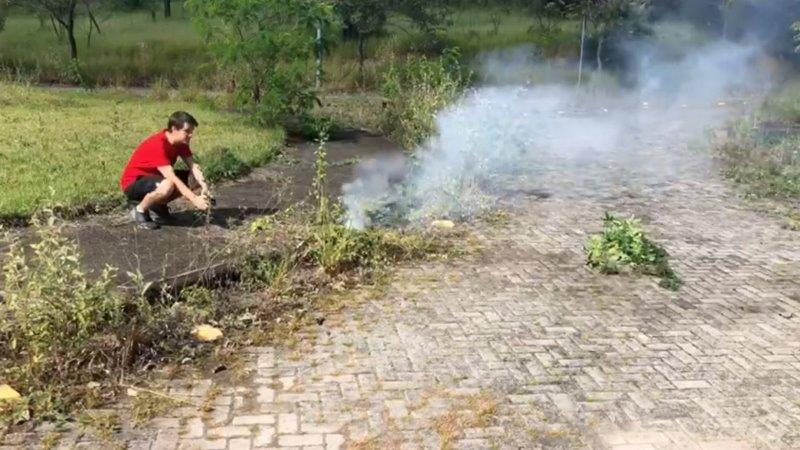smoke: (461, 97, 596, 157)
